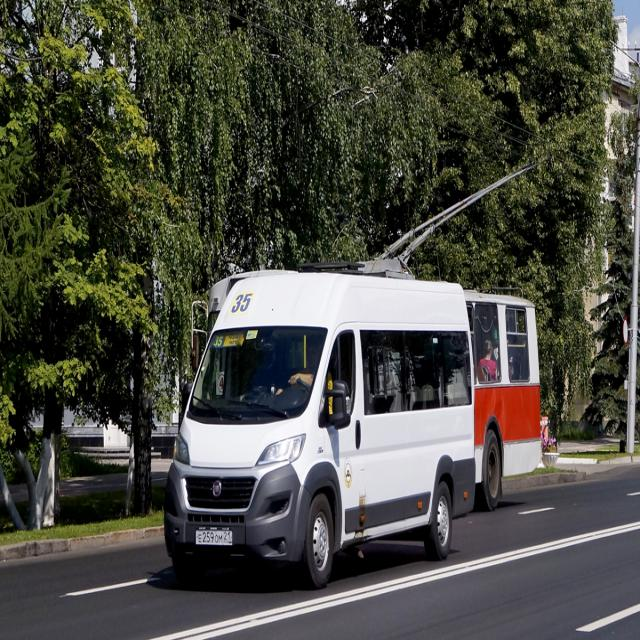number-of-bus: (231, 288, 254, 316), (213, 331, 225, 350)
